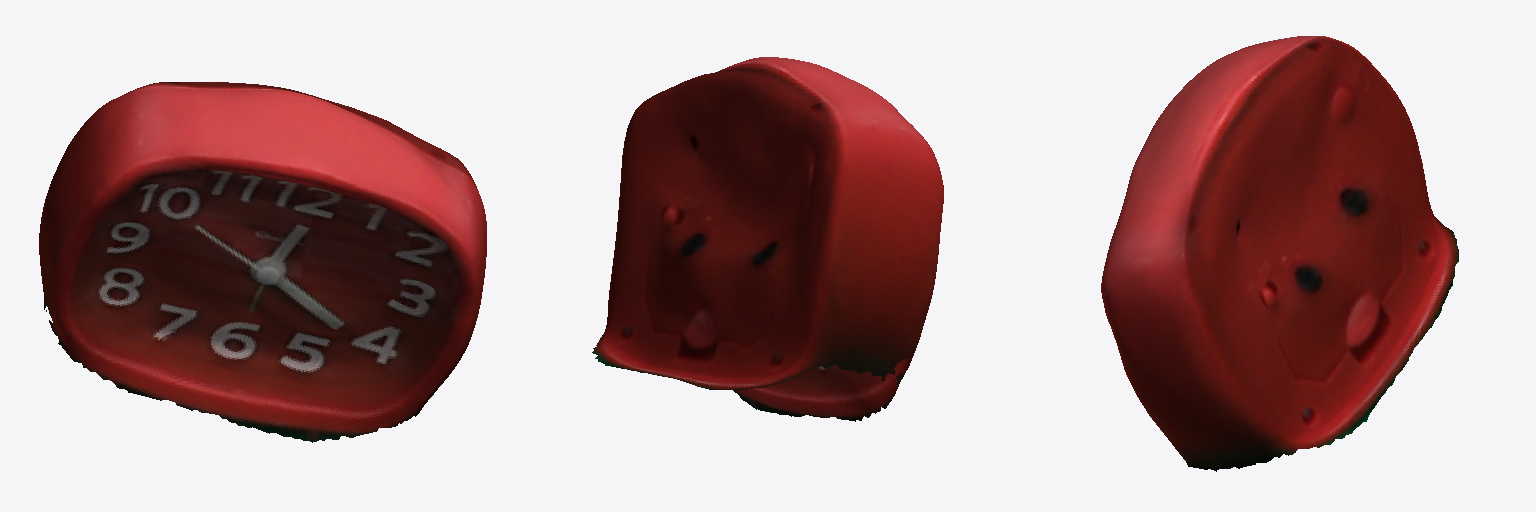
The picture shows the model from 3 angles: view 1: azimuth 30°, elevation 25°; view 2: azimuth 150°, elevation 25°; view 3: azimuth 270°, elevation 25°; orthographic projection.
Bounding box in the file's own units: 44.39 × 41.13 × 37.34.
1 materials, 1 textured.